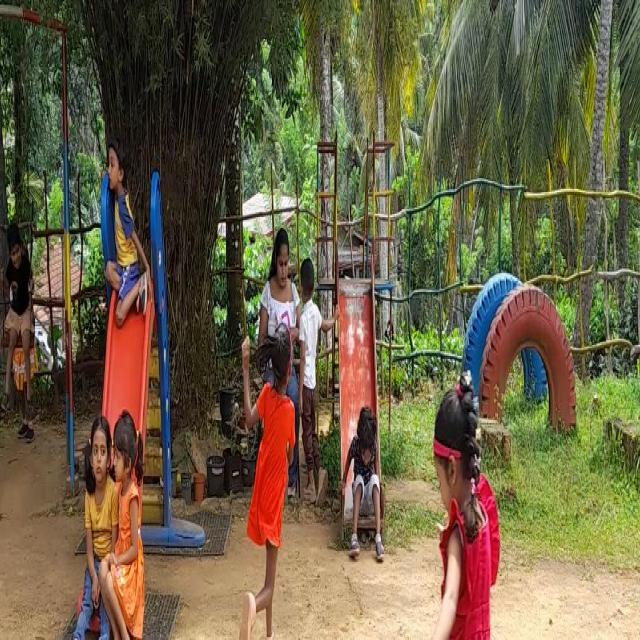child: (387, 384, 517, 640), (232, 331, 295, 640), (65, 406, 113, 640), (110, 418, 150, 640), (343, 386, 388, 566), (103, 124, 137, 322), (2, 210, 32, 408), (298, 255, 322, 485)
